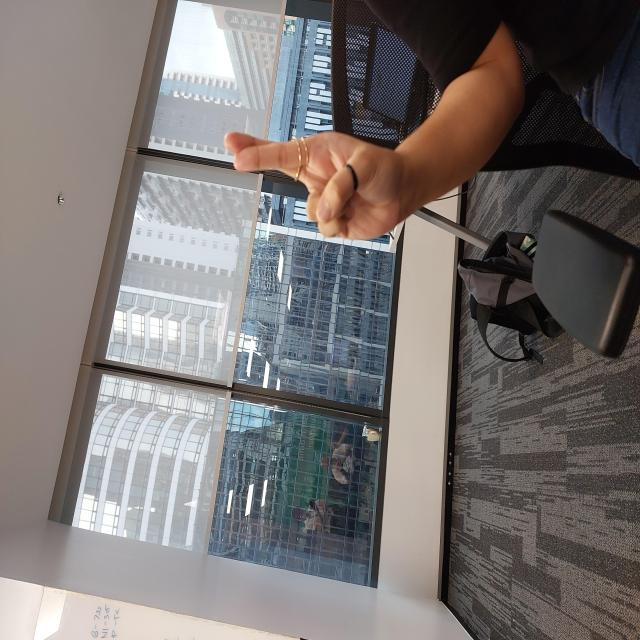R: (397, 222, 512, 407)
